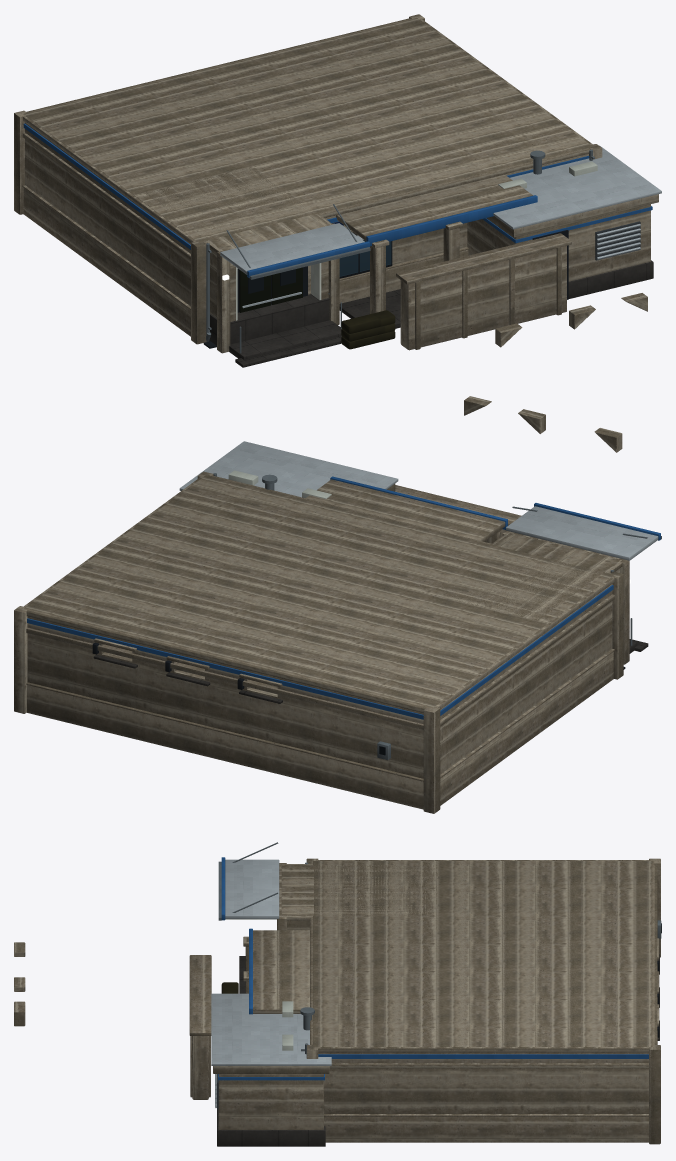
File: fac_command_main.glb
The picture shows the model from 3 angles, top to bottom: view 1: azimuth 30°, elevation 25°; view 2: azimuth 150°, elevation 25°; view 3: azimuth 270°, elevation 25°; orthographic projection. The views are drawn at different scales.
Visible parts, largest first — view 1: FAC_COMMAND_MAIN; view 2: FAC_COMMAND_MAIN; view 3: FAC_COMMAND_MAIN.
Boxes of the visible parts, x1,y1,x2,y2 form: FAC_COMMAND_MAIN: (14, 14, 661, 367); FAC_COMMAND_MAIN: (14, 396, 661, 813); FAC_COMMAND_MAIN: (14, 842, 661, 1146).
Bounding box in the file's own units: 14.11 × 3.98 × 19.69.
17 materials, 14 textured.
